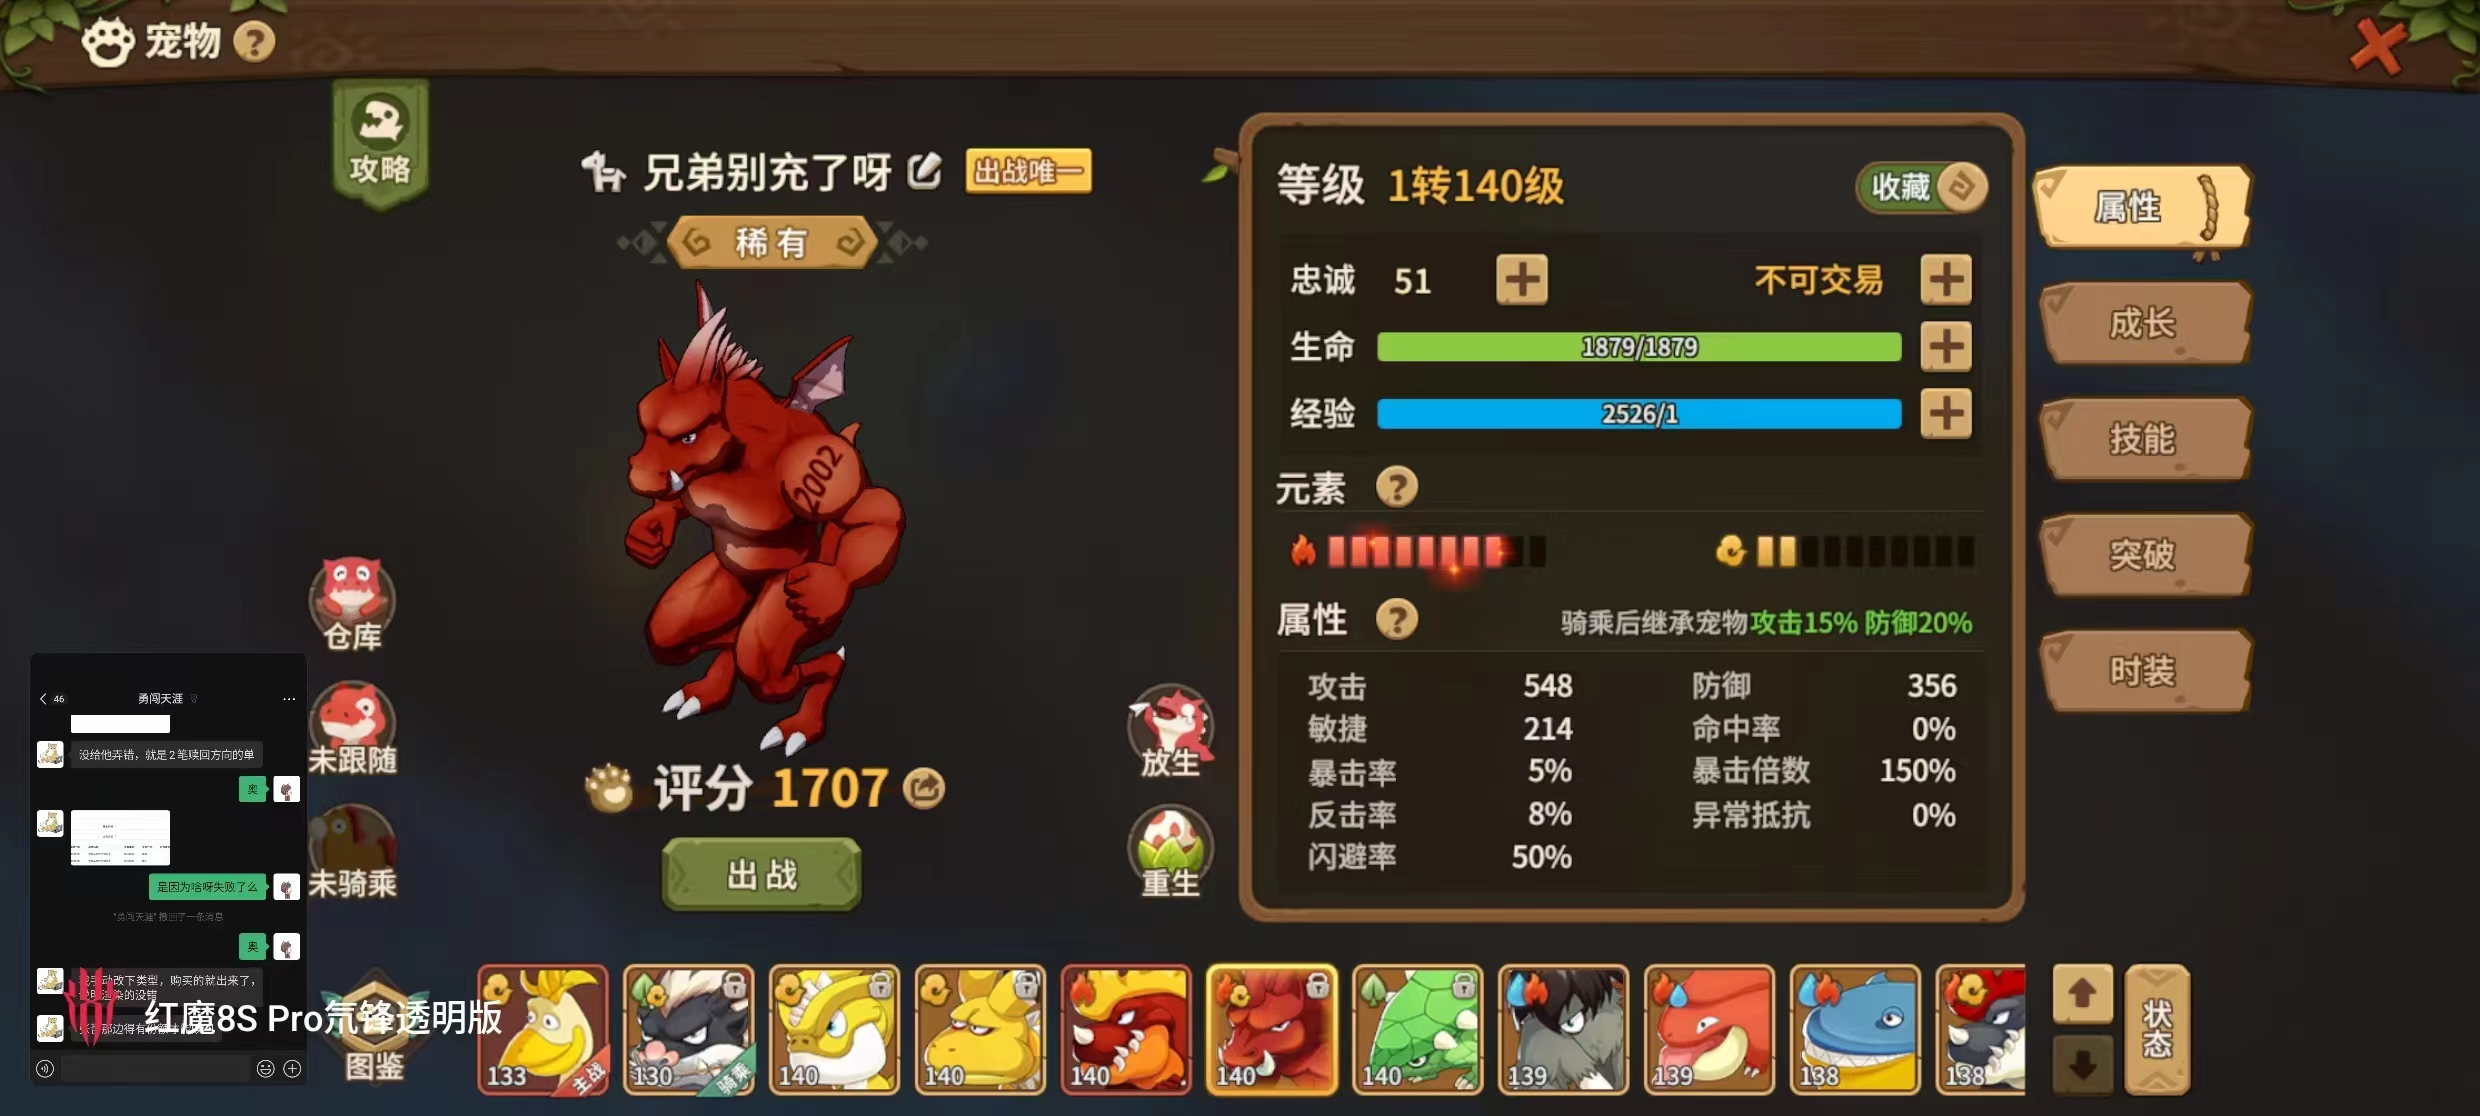葛雷吉鲁: (604, 277, 908, 765)
